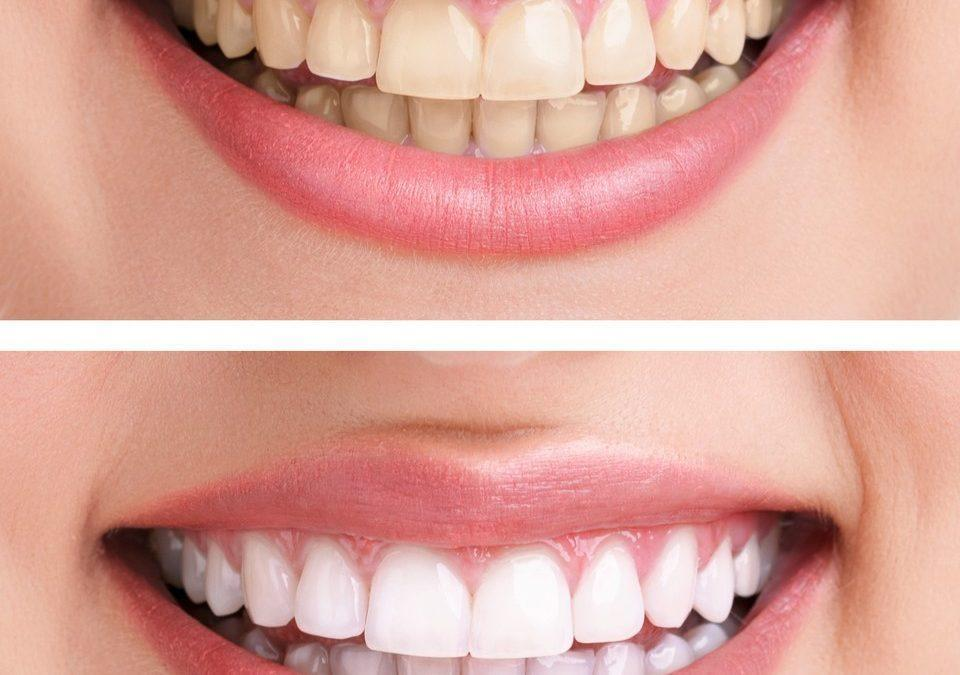cavity: (371, 0, 486, 109), (478, 0, 587, 97), (576, 0, 664, 92), (300, 0, 381, 86), (461, 93, 545, 166), (528, 85, 613, 154), (338, 83, 421, 147), (402, 94, 480, 162), (647, 0, 715, 75), (248, 0, 314, 71), (598, 76, 666, 140), (702, 0, 754, 66), (212, 0, 264, 63), (648, 73, 713, 118), (290, 81, 353, 127), (245, 66, 290, 112), (188, 0, 227, 52), (740, 0, 783, 44), (704, 68, 758, 98), (169, 0, 201, 38)
normal: (451, 546, 577, 665), (360, 541, 480, 664), (570, 531, 652, 646), (288, 531, 375, 638), (638, 515, 706, 628), (235, 523, 301, 634), (690, 534, 741, 631), (202, 536, 250, 620), (323, 639, 402, 675), (142, 525, 186, 589), (576, 638, 651, 675), (734, 524, 767, 607), (177, 534, 215, 606), (528, 640, 594, 675), (279, 636, 338, 675), (759, 519, 792, 579), (233, 626, 278, 669), (397, 648, 468, 675), (650, 633, 696, 673), (686, 620, 733, 655), (468, 651, 531, 675)
